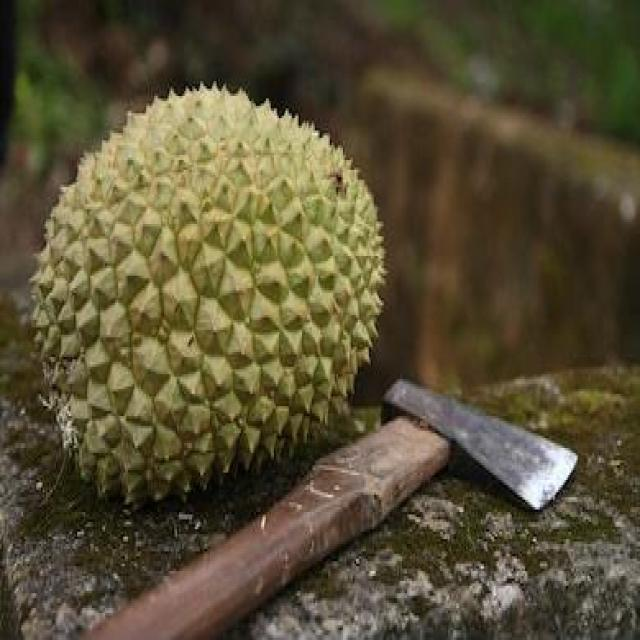mature: (31, 84, 385, 504), (32, 88, 383, 500)
